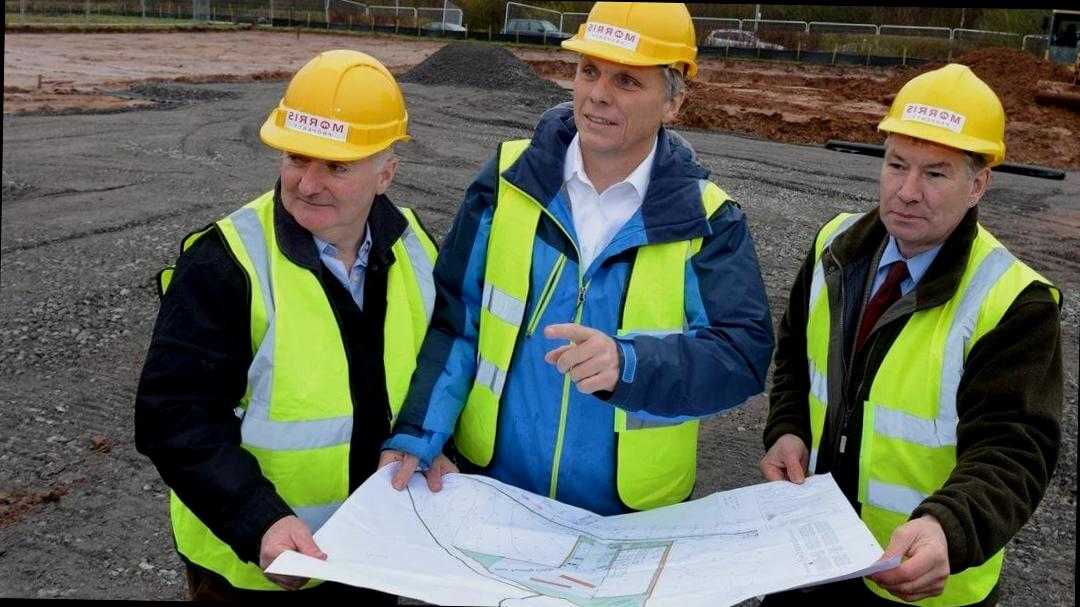helmet: (241, 43, 426, 170), (866, 59, 1019, 170), (552, 12, 706, 96)
person: (430, 1, 739, 607), (754, 41, 1072, 607), (182, 46, 448, 605)
